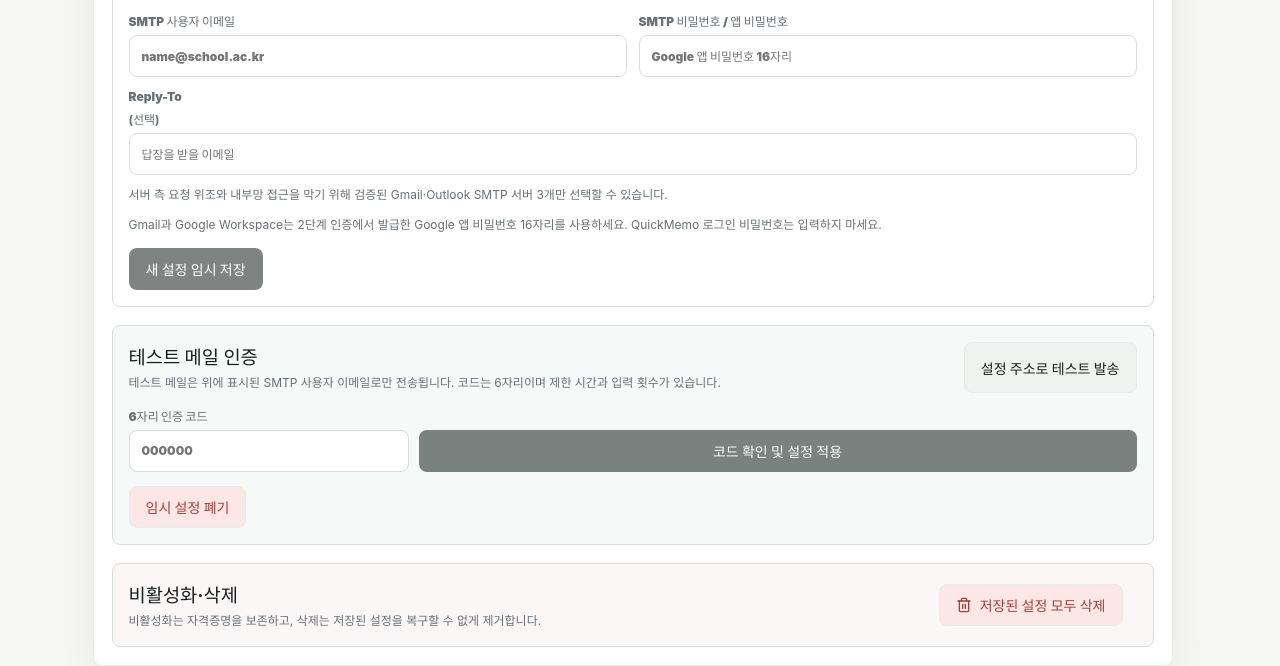
Test: AdminEmailSettingsPanel › does not claim effective activation when the verified backend status remains disabled
The width and height of the screenshot is (1280, 666).
(page scrolled)
Type "123456" into the field labelled "6자리 인증 코드" at [268, 451], box [128,430,408,472]
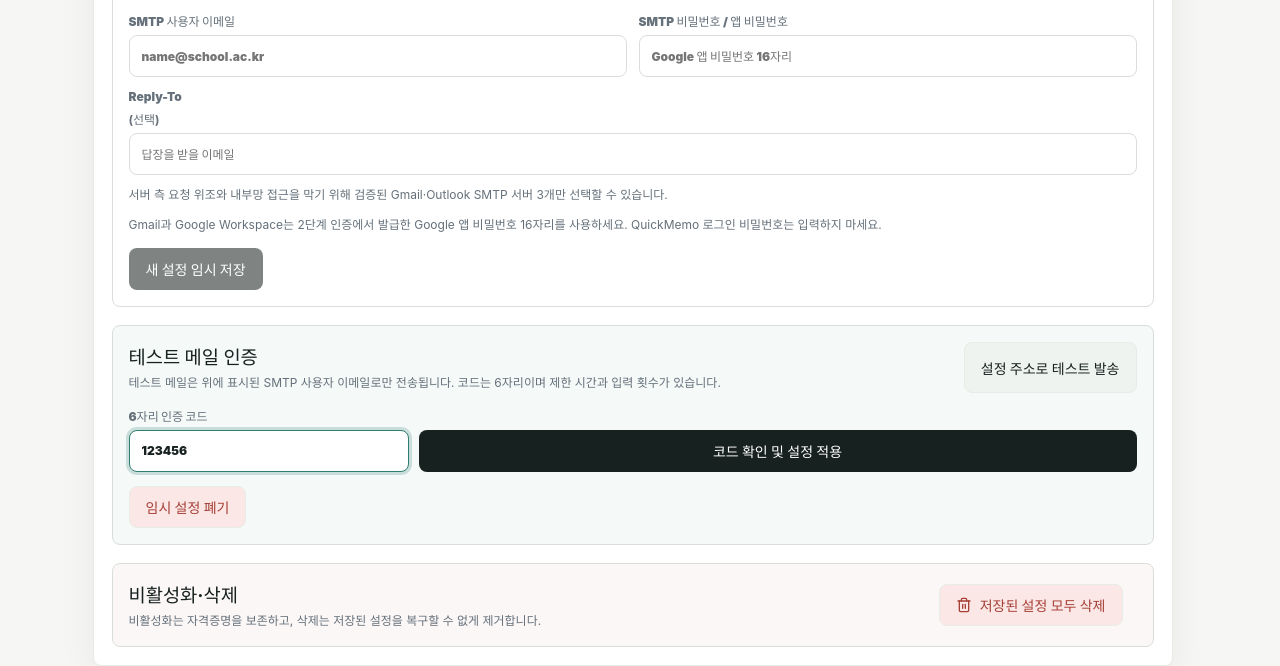
Click the button "코드 확인 및 설정 적용" at [778, 451], box [418,430,1136,472]
(page scrolled)
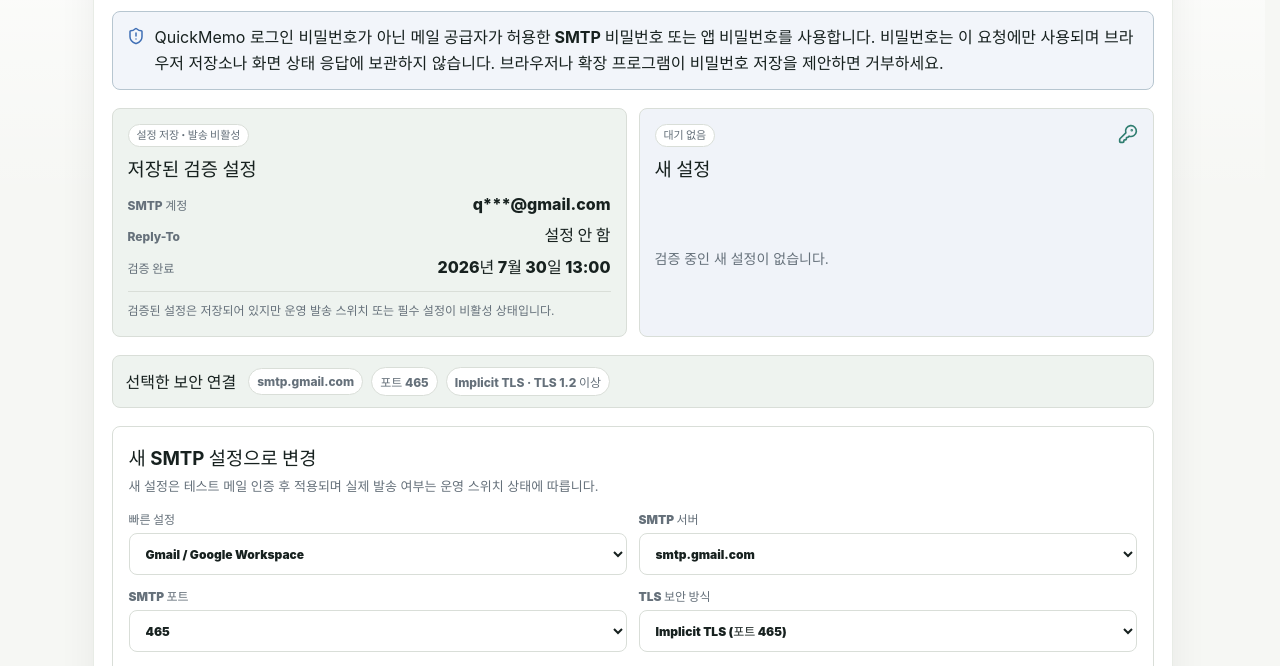
Expected: the text "설정 저장 · 발송 비활성" is shown, [128,124,250,147]
Expected: the text "검증된 설정은 저장되어 있지만 운영 발송 스위치 또는 필수 설정이 비활성 상태입니다." is shown, [128,291,610,321]
